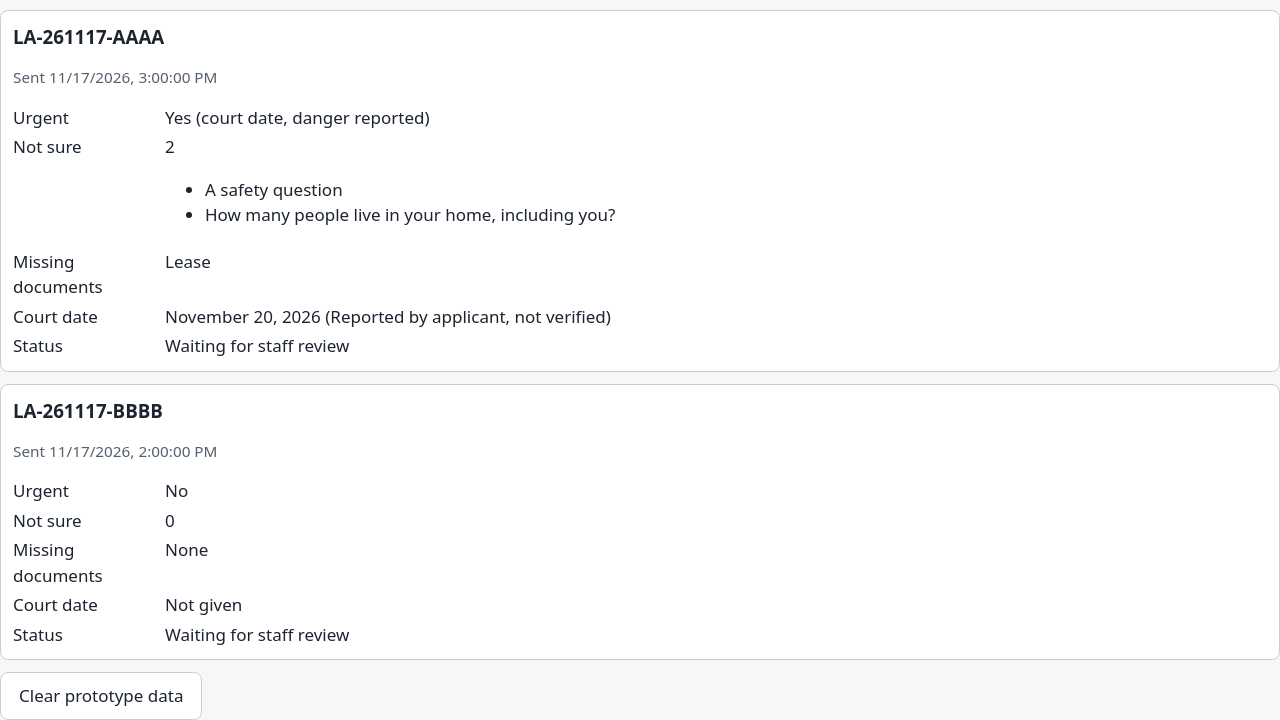
Test: StaffList (mock) › storage: clear prototype data empties the list
(page scrolled)
Click the button "Clear prototype data". click: click(101, 696)
box: [0,672,202,719]
(page scrolled)
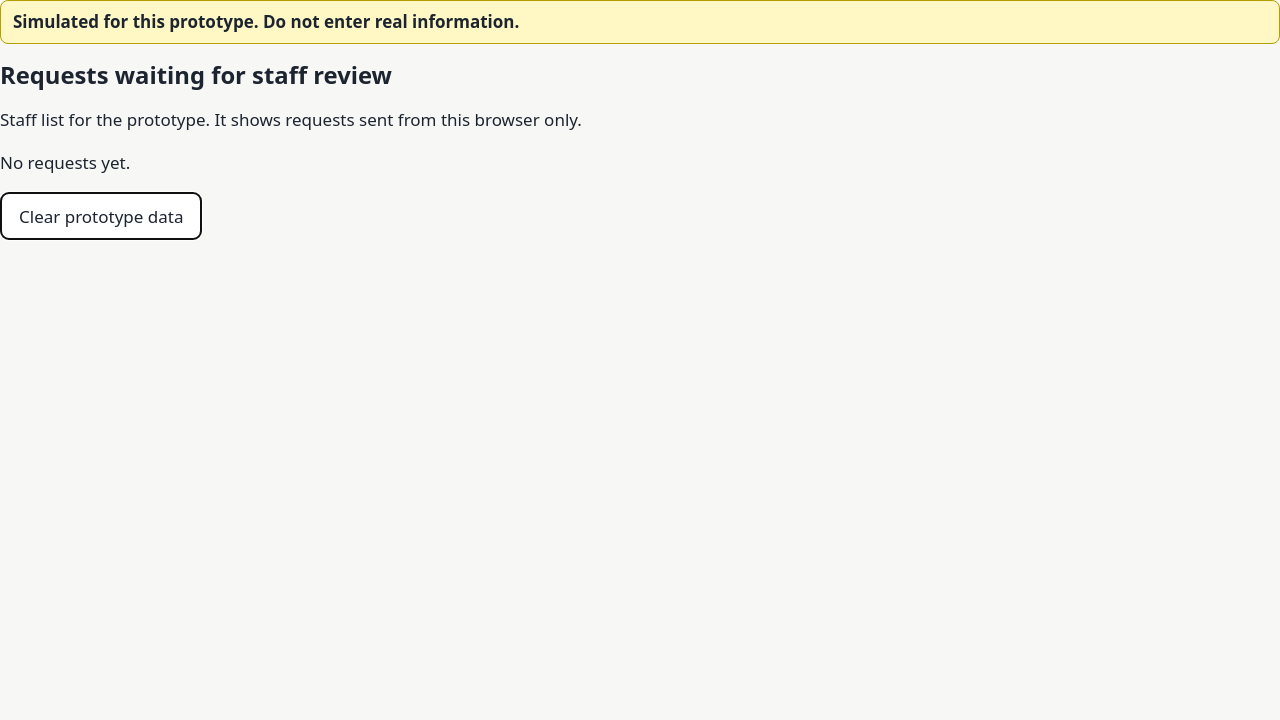
Expected: no elements with test id "staff-row" are shown
